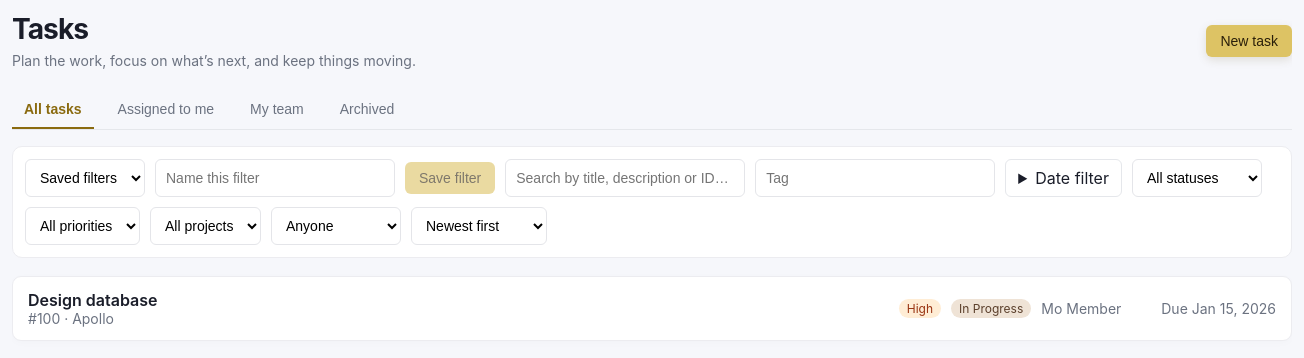
Test: Tasks page › filtering by status re-fetches with the right query param
Check: the link "Design database" is shown, box [28, 290, 158, 310]
Select "Completed" in the 1st dropdown showing "all statuses". click: (1197, 178)
box: [1132, 159, 1262, 197]
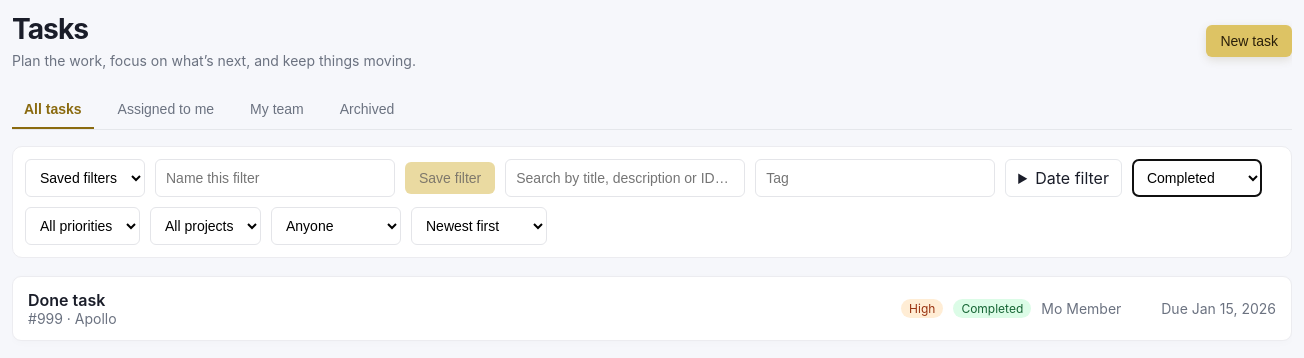
Check: the link "Done task" is shown, box [28, 290, 105, 310]
